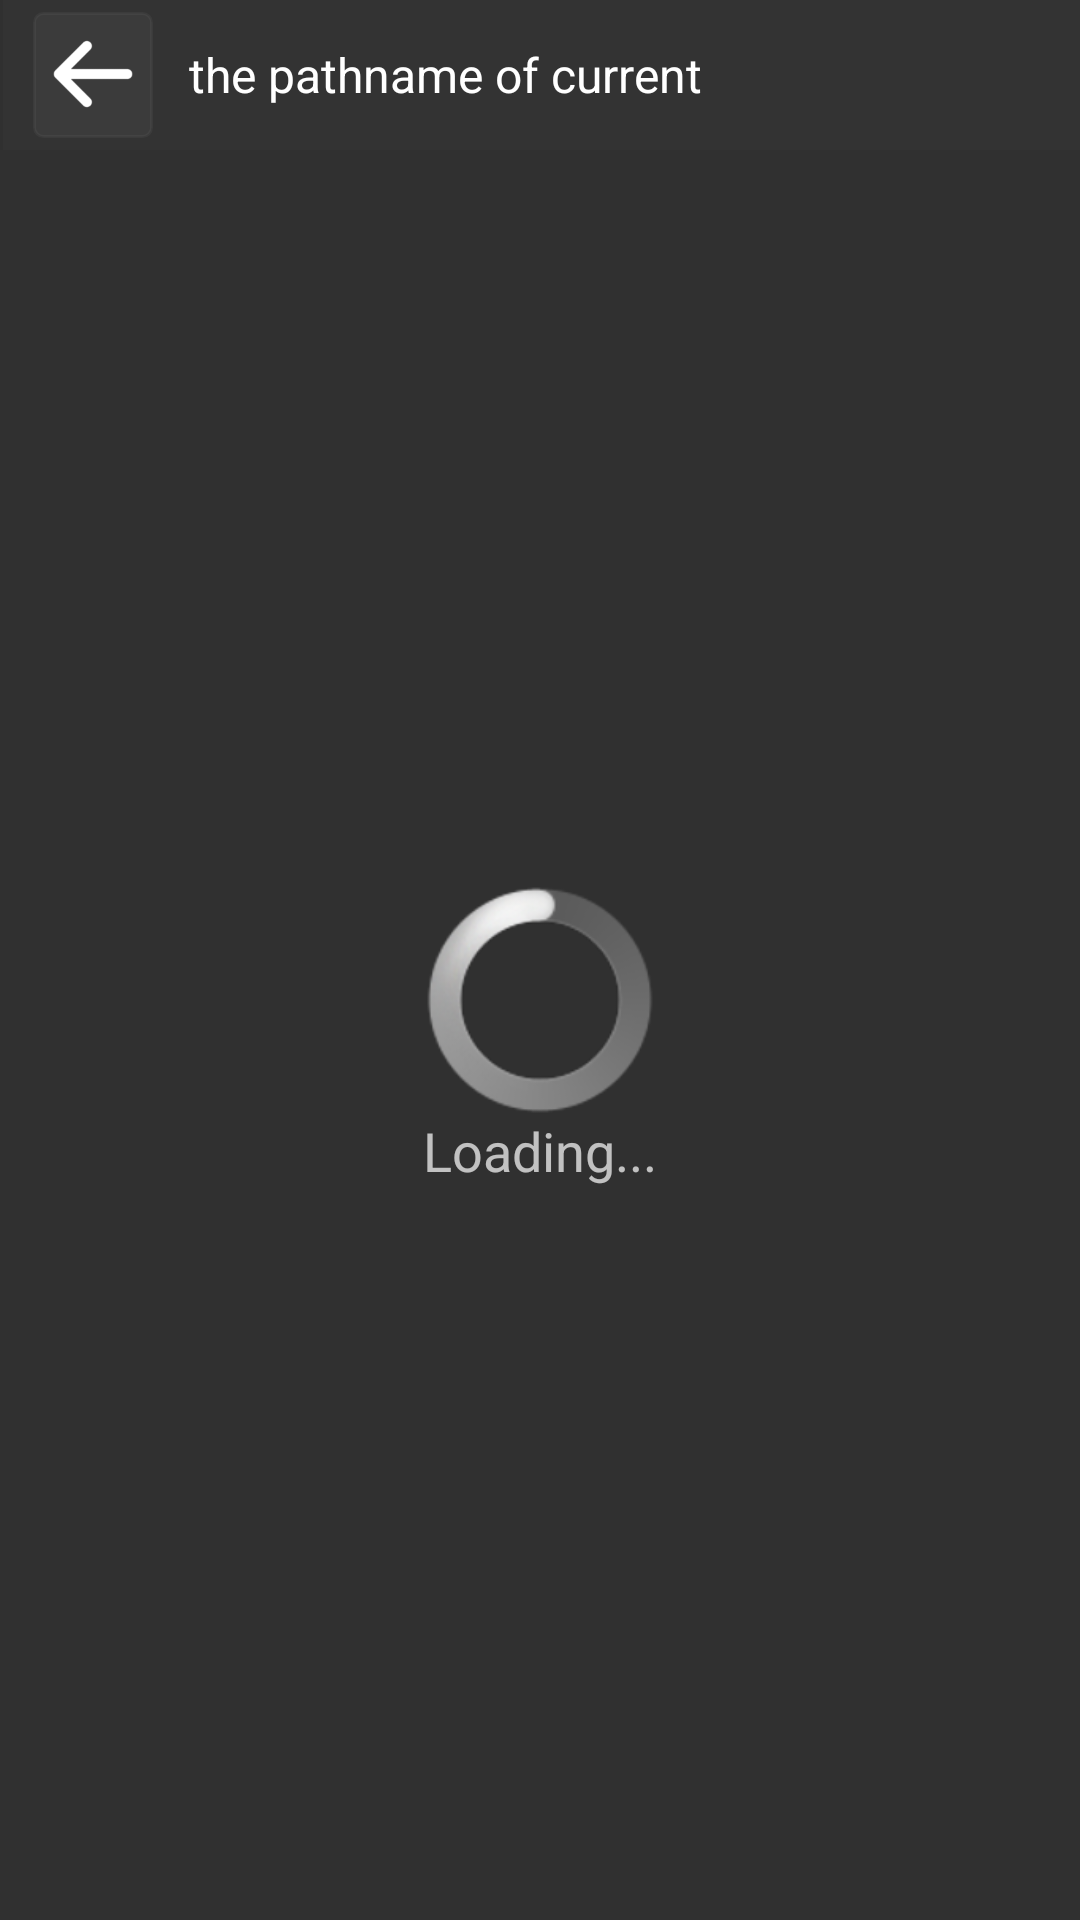

Icon click points for this 1080×1920 phone screenshot, format (x,y):
ongo path back: (93,74)
